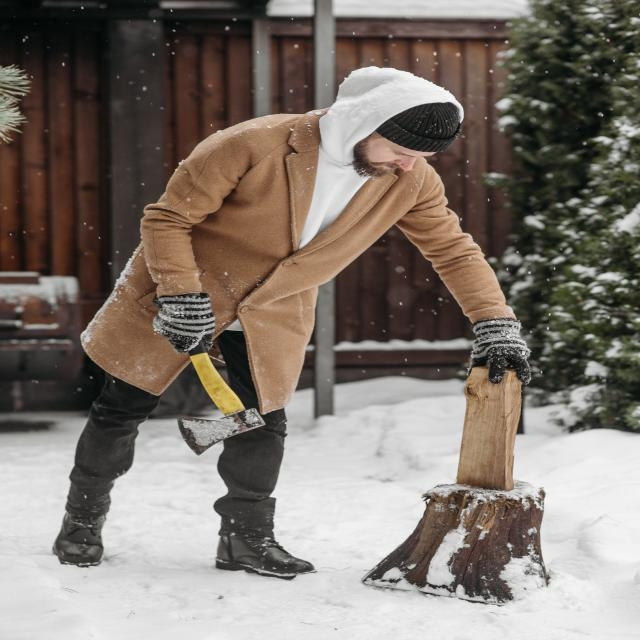Axe: (178, 353, 266, 456)
